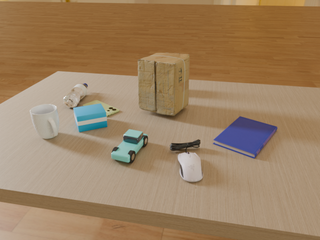book: (213, 116, 277, 158)
bottle: (63, 83, 88, 108)
box: (138, 53, 190, 116), (74, 103, 107, 132)
cup: (30, 104, 59, 139)
mouse: (178, 152, 203, 182)
phone: (83, 100, 119, 117)
toy_car: (111, 129, 148, 163)
